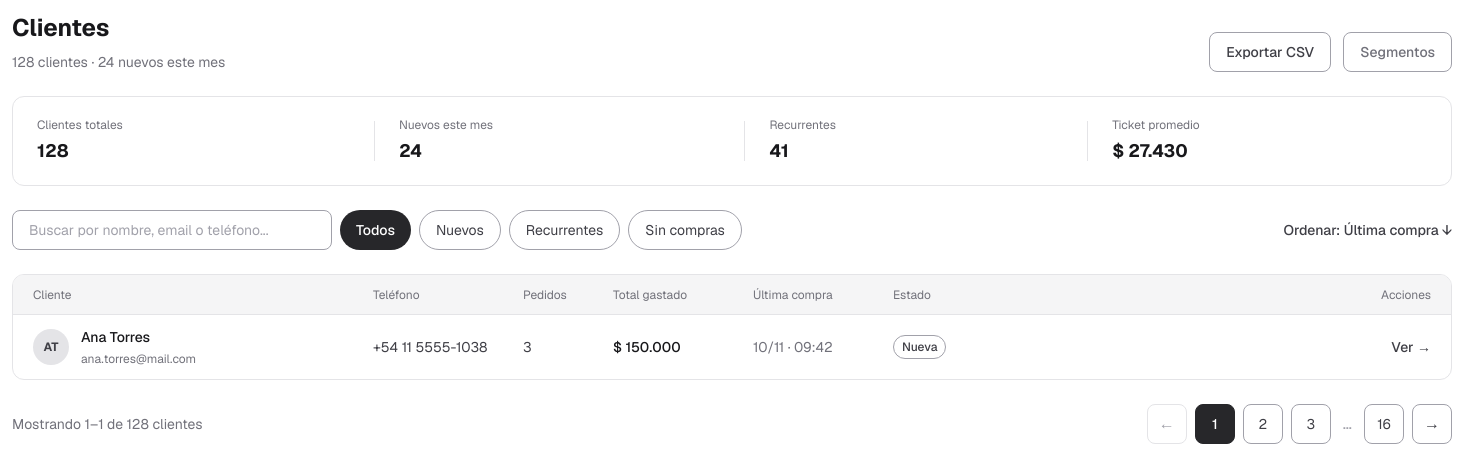
Test case: AdminClientsWorkspace › clears the segment when Todos is selected again
Click the button "Nuevos": click(460, 230) [419,210,501,250]
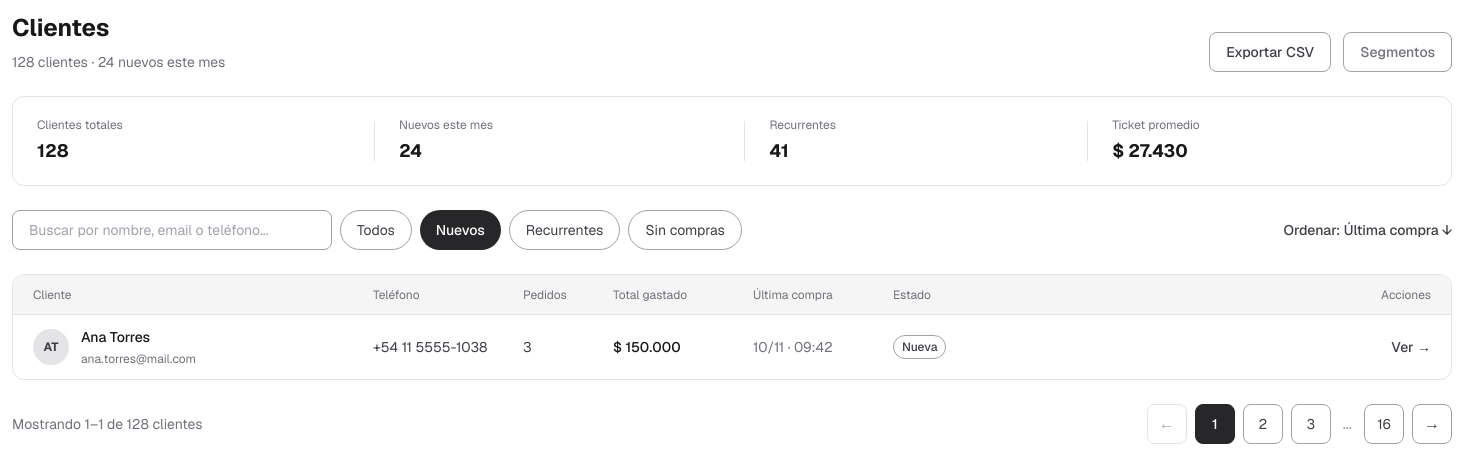
Click the button "Todos": click(376, 230) [340,210,412,250]
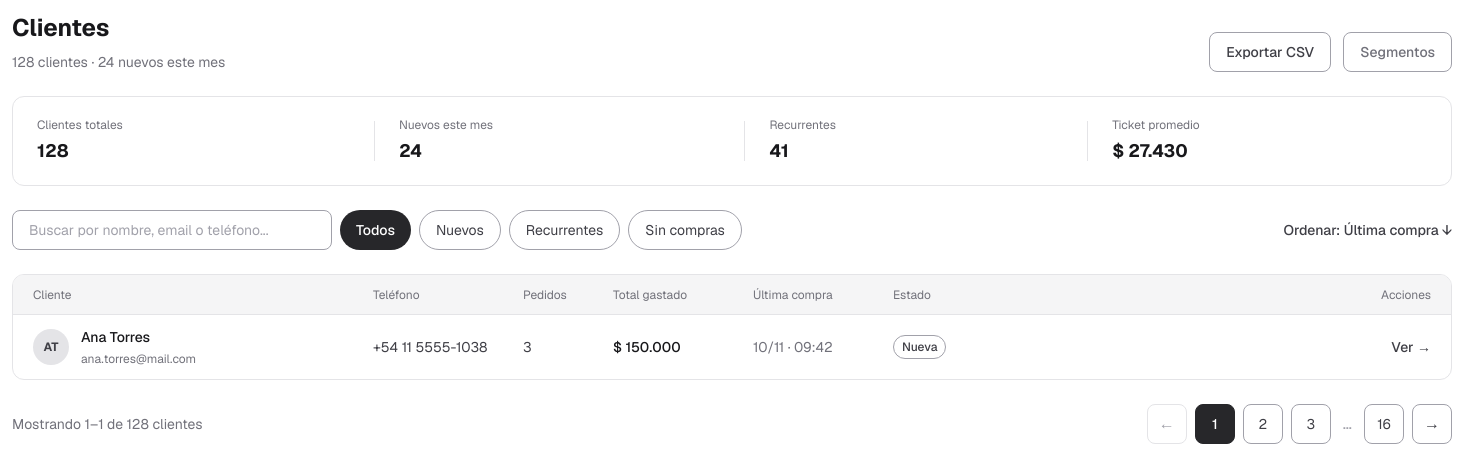
Expected: the button "Todos" is marked as current, [340,210,411,250]
